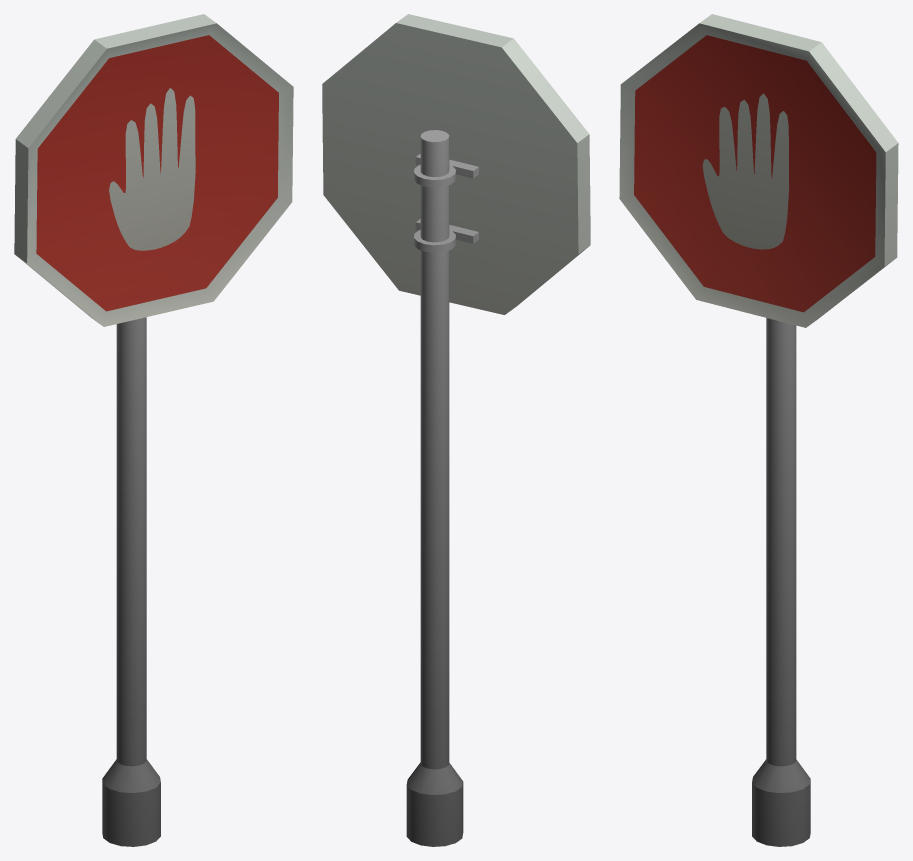
The model's file is Stop_Sign.glb.
3 views of the same model, side by side, from view 1: azimuth 30°, elevation 25°; view 2: azimuth 150°, elevation 25°; view 3: azimuth 330°, elevation 25° (orthographic). The views are drawn at different scales.
Visible parts, largest first — view 1: stop_sign; view 2: stop_sign; view 3: stop_sign.
Part boxes in pixels (<box>): stop_sign: <box>14,14,293,846</box>; stop_sign: <box>322,14,590,846</box>; stop_sign: <box>619,14,898,846</box>.
Bounding box in the file's own units: 0.9186 × 2.7 × 0.2604.
Materials: 1 (1 with a texture image).
